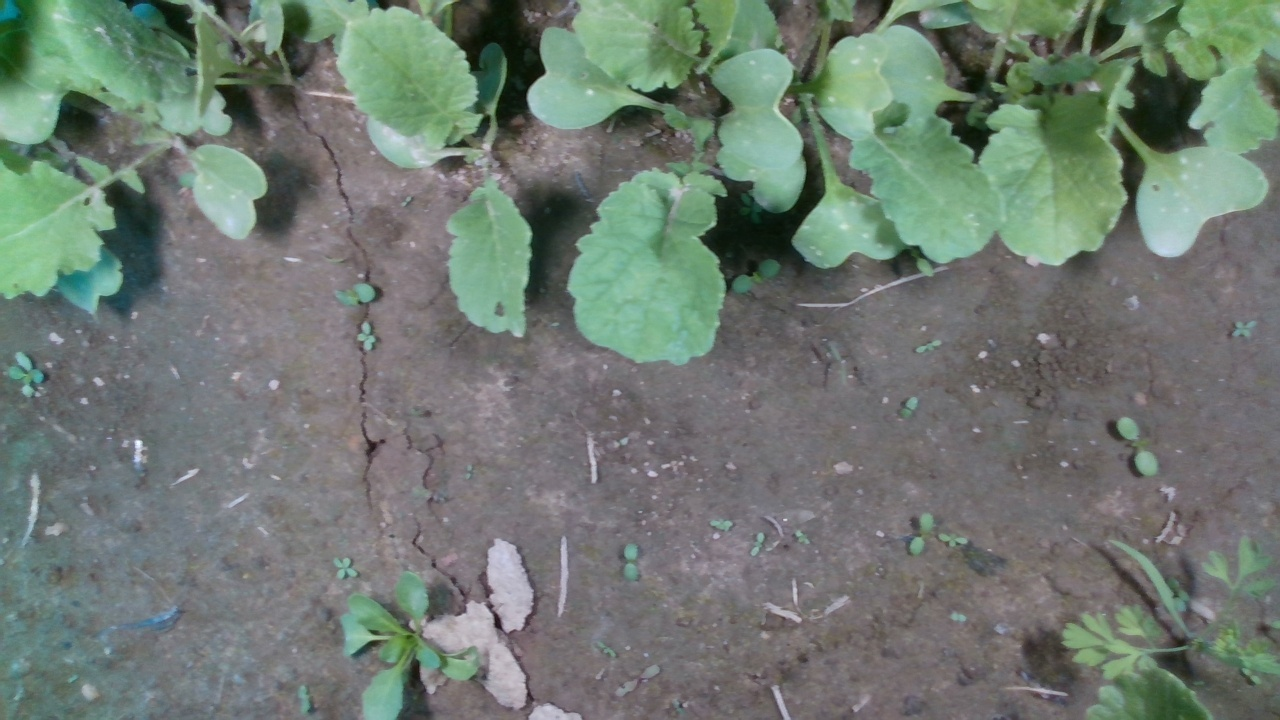weed: (1114, 415, 1159, 477), (730, 256, 782, 294), (5, 351, 44, 399), (326, 280, 380, 308), (908, 512, 935, 556), (620, 543, 642, 581), (355, 320, 380, 351), (330, 555, 359, 581), (1228, 318, 1259, 339), (899, 395, 920, 422), (912, 338, 943, 356), (939, 532, 968, 549), (750, 531, 764, 558)
